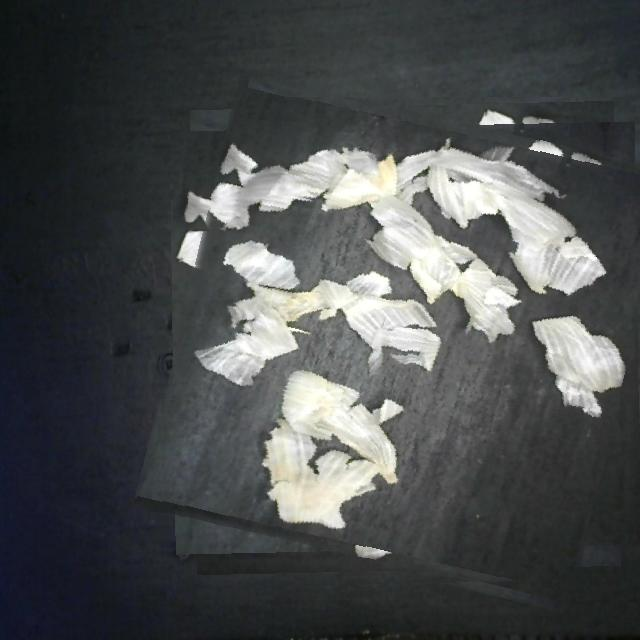biodegradable: (156, 97, 640, 589)
